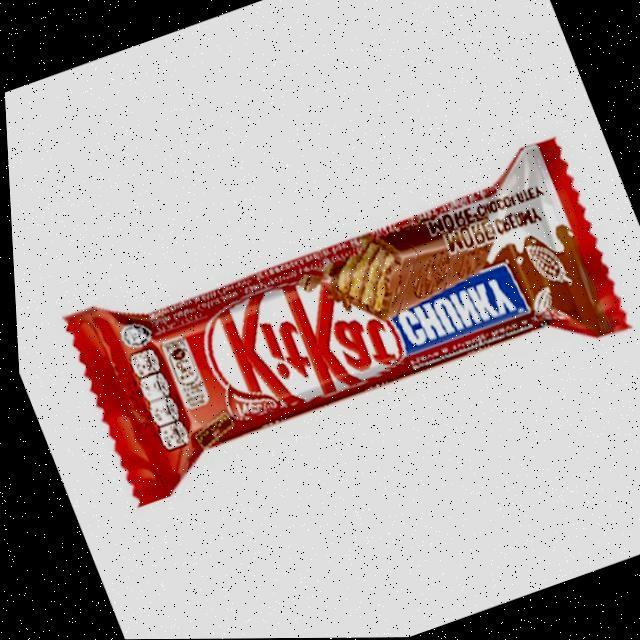kitkat_chocolate: (112, 140, 573, 523)
